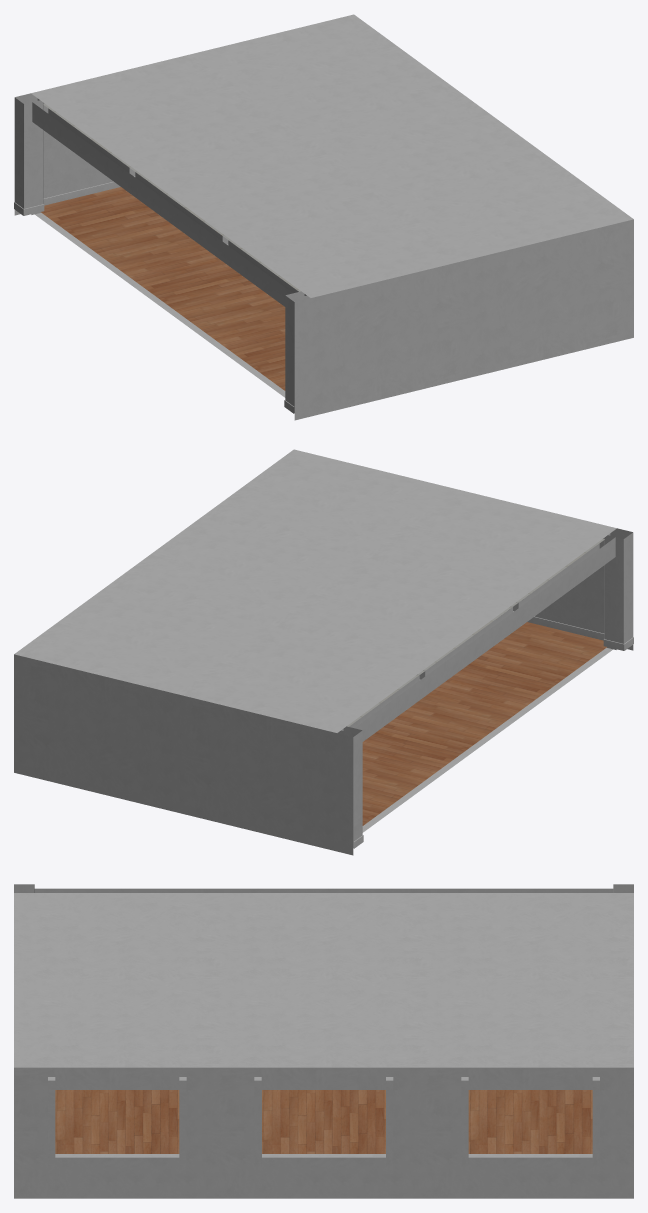
The model's file is SM_ClassroomMesh_01_1500.fbx.
3 renders of one model, top to bottom at view 1: azimuth 30°, elevation 25°; view 2: azimuth 150°, elevation 25°; view 3: azimuth 270°, elevation 25°, orthographic. The views are drawn at different scales.
Parts seen in each view (by area): view 1: SM_ClassroomMesh_01_1500_LOD0; view 2: SM_ClassroomMesh_01_1500_LOD0; view 3: SM_ClassroomMesh_01_1500_LOD0.
Boxes of the visible parts, left/top/right/bottom form: SM_ClassroomMesh_01_1500_LOD0: left=14, top=14, right=633, bottom=420; SM_ClassroomMesh_01_1500_LOD0: left=14, top=449, right=633, bottom=855; SM_ClassroomMesh_01_1500_LOD0: left=14, top=884, right=633, bottom=1198.
Bounding box in the file's own units: 1072 × 1500 × 350.
Materials: 5 (5 with a texture image).
